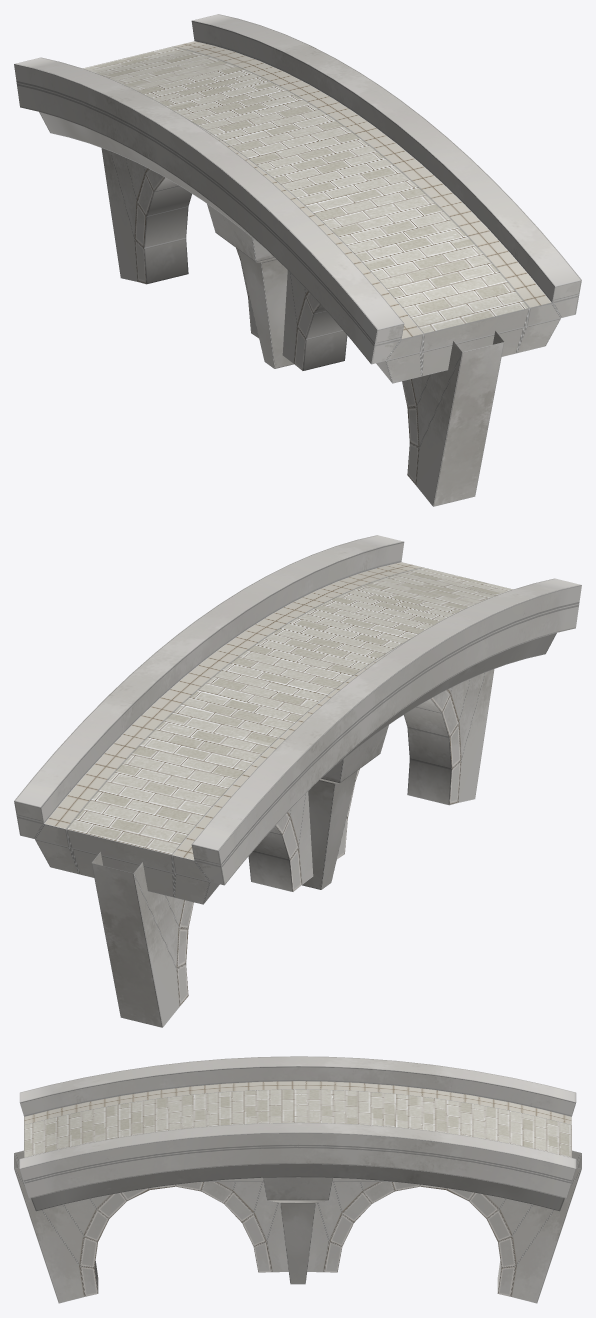
The model's file is BgMD_Field_Bridge.fbx.
3 views of the same model, one above another, from view 1: azimuth 30°, elevation 25°; view 2: azimuth 150°, elevation 25°; view 3: azimuth 270°, elevation 25° (orthographic). The views are drawn at different scales.
Parts seen in each view (by area): view 1: polySurface95; view 2: polySurface95; view 3: polySurface95.
Part boxes in pixels (x1,y1,x2,y2): polySurface95: (14, 14, 581, 506); polySurface95: (14, 535, 581, 1027); polySurface95: (14, 1056, 581, 1303).
Size of the model in its own units: 1000 by 1227 by 3139.
